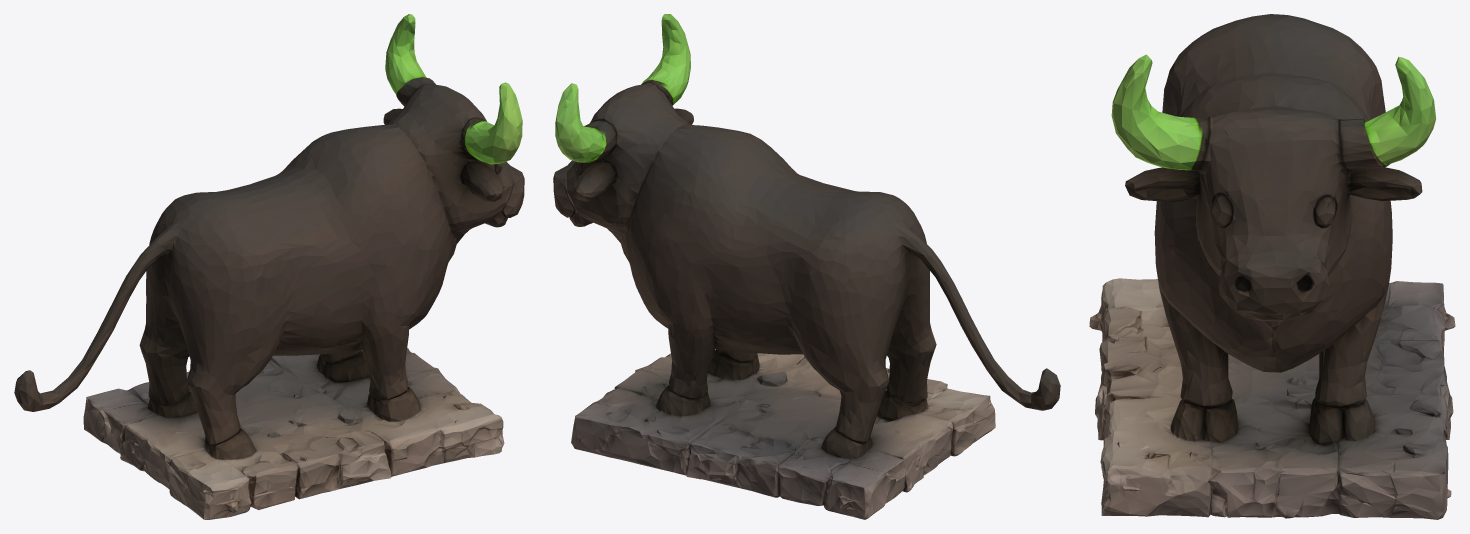
The model's file is hero_black_bull.fbx.
The picture shows the model from 3 angles, left to right: view 1: azimuth 30°, elevation 25°; view 2: azimuth 150°, elevation 25°; view 3: azimuth 270°, elevation 25°; orthographic projection. The views are drawn at different scales.
Parts seen in each view (by area): view 1: hero_black_bull_LOD0; view 2: hero_black_bull_LOD0; view 3: hero_black_bull_LOD0.
Part boxes in pixels (left/top/right/bottom): hero_black_bull_LOD0: left=14, top=14, right=524, bottom=519; hero_black_bull_LOD0: left=553, top=14, right=1060, bottom=519; hero_black_bull_LOD0: left=1089, top=14, right=1455, bottom=519.
Size of what is drawn, in the model's own units: 3.85 by 2.6 by 1.82.
Materials: 1 (1 with a texture image).
